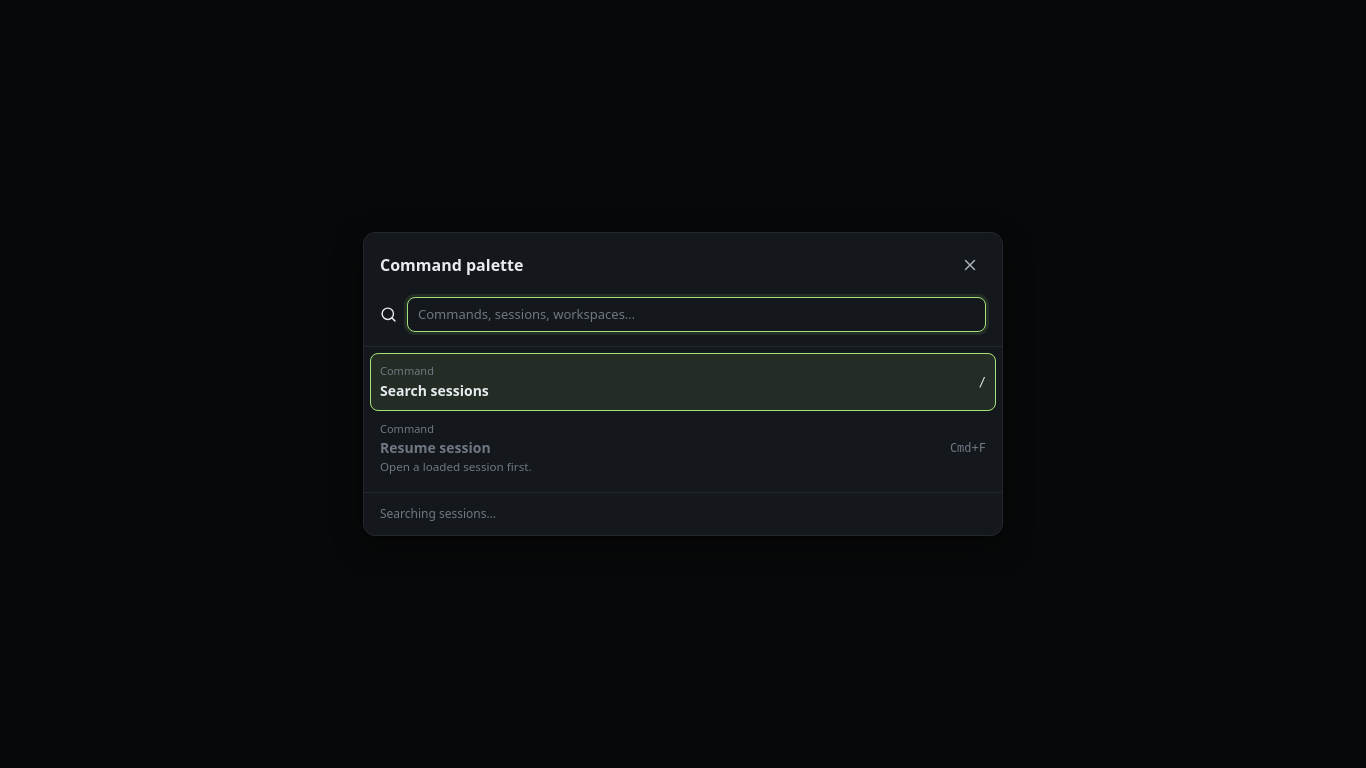
Test: search failure, empty results and Linux shortcut help are explicit
Later steps or results of the test are not shown.
In the dropdown: (696, 314) [407,297,986,332], type "unmatched"
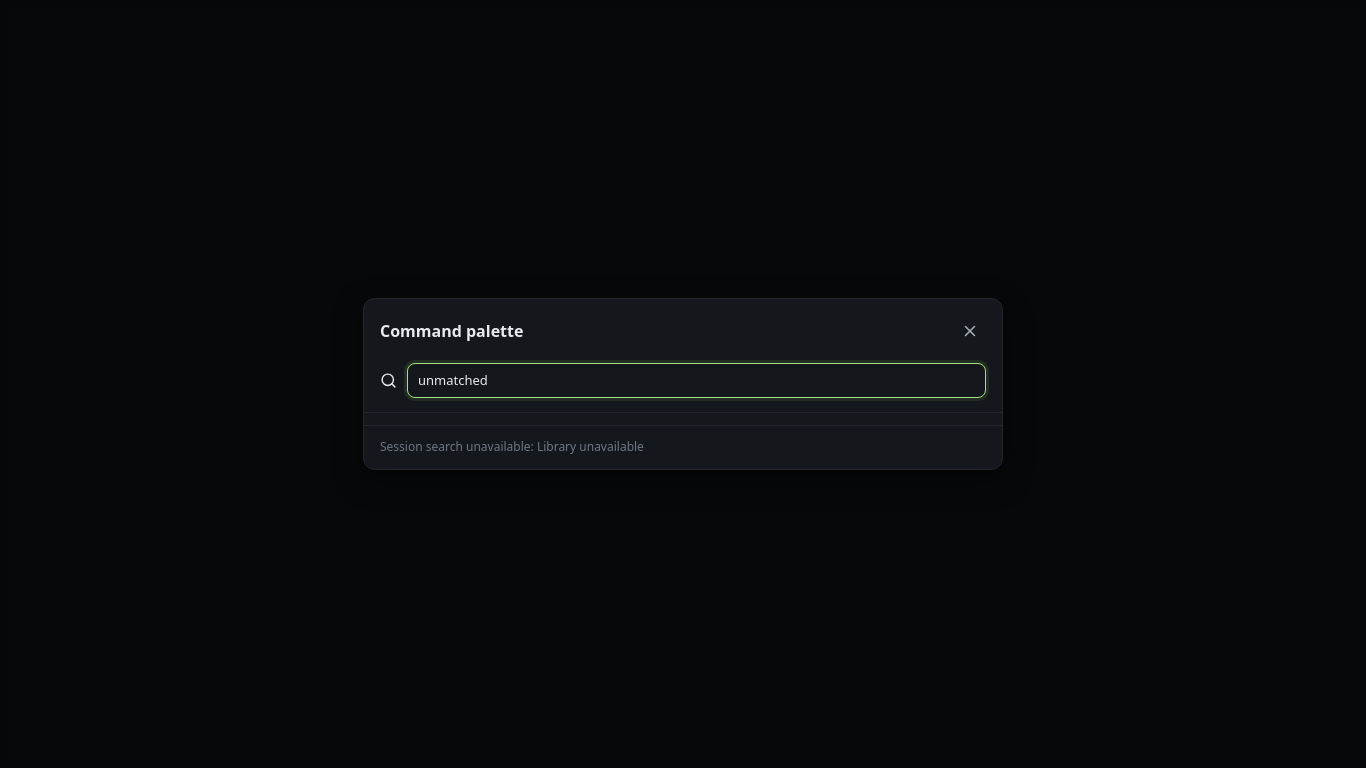
Expected: the text "Session search unavailable: Library unavailable" is shown, [364,426,1002,469]
Expected: no options are shown
Clear the dropdown: (696, 381) [407,363,986,398]
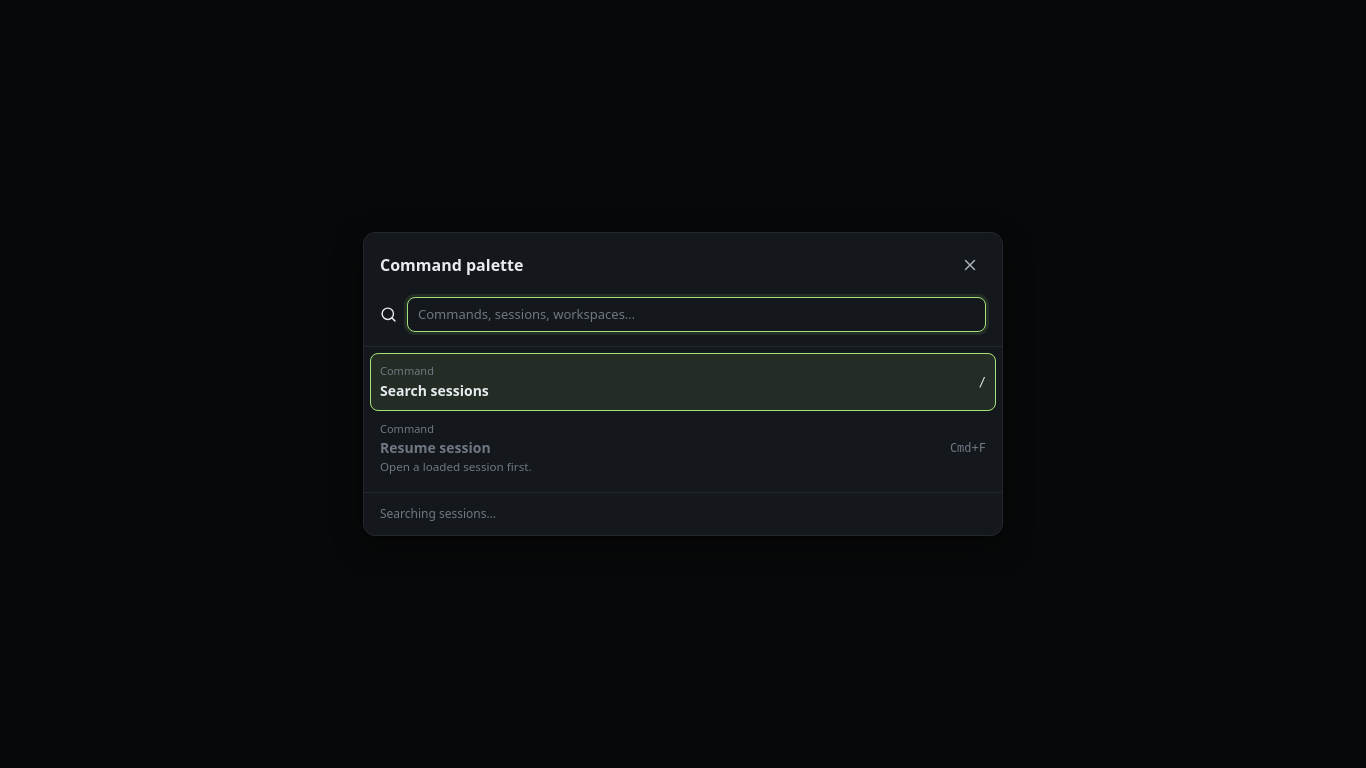
In the dropdown: (696, 314) [407,297,986,332], type "absent"
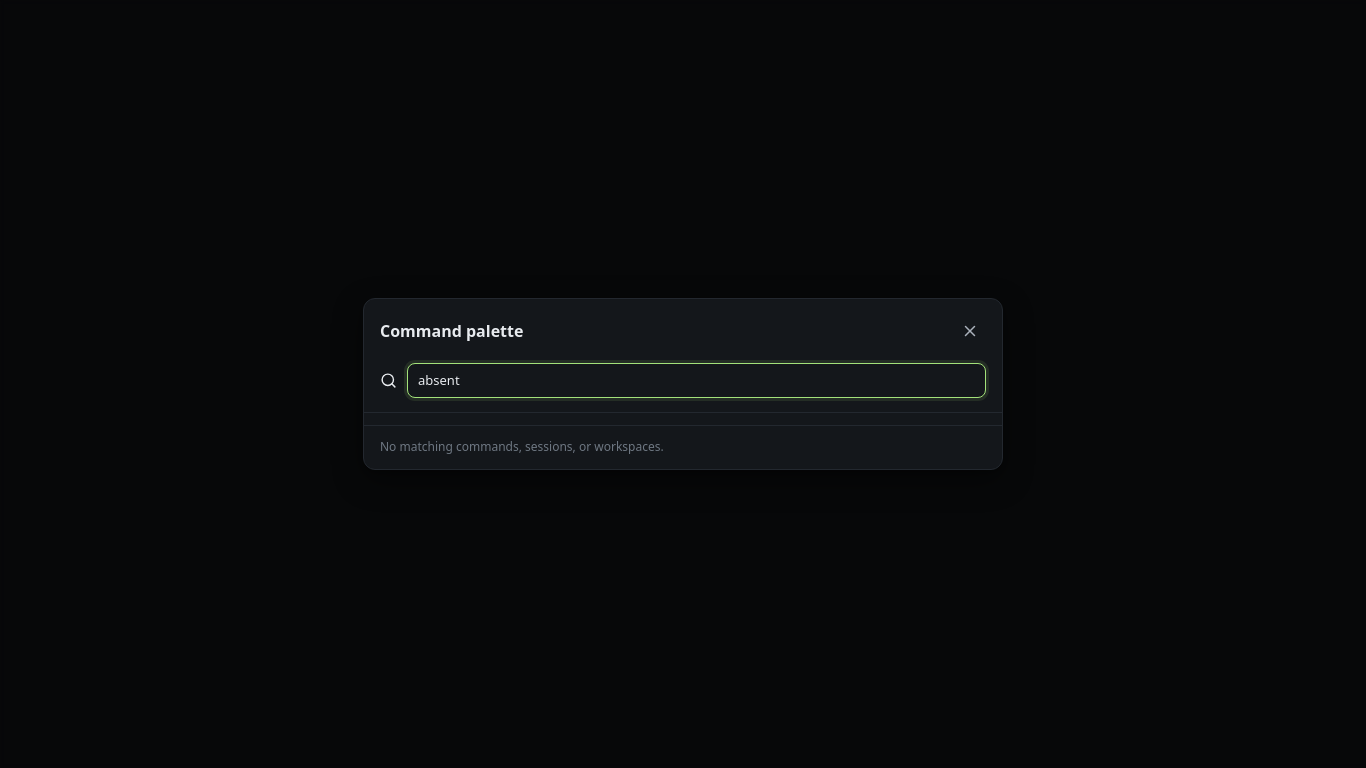
Expected: the text "No matching commands, sessions, or workspaces." is shown, [364,426,1002,469]
